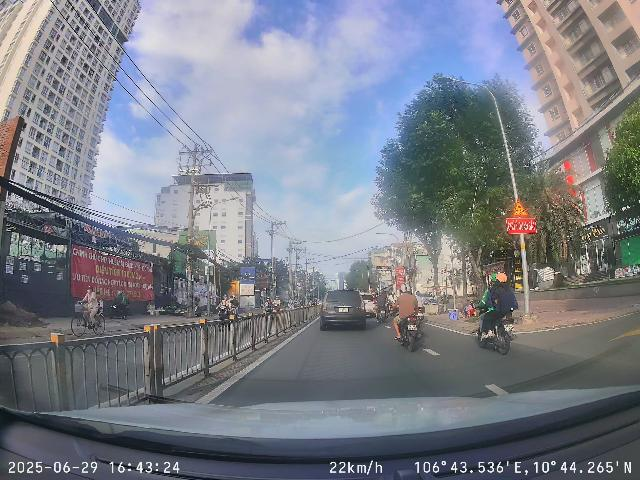245-di-cham: (512, 199, 529, 217)
